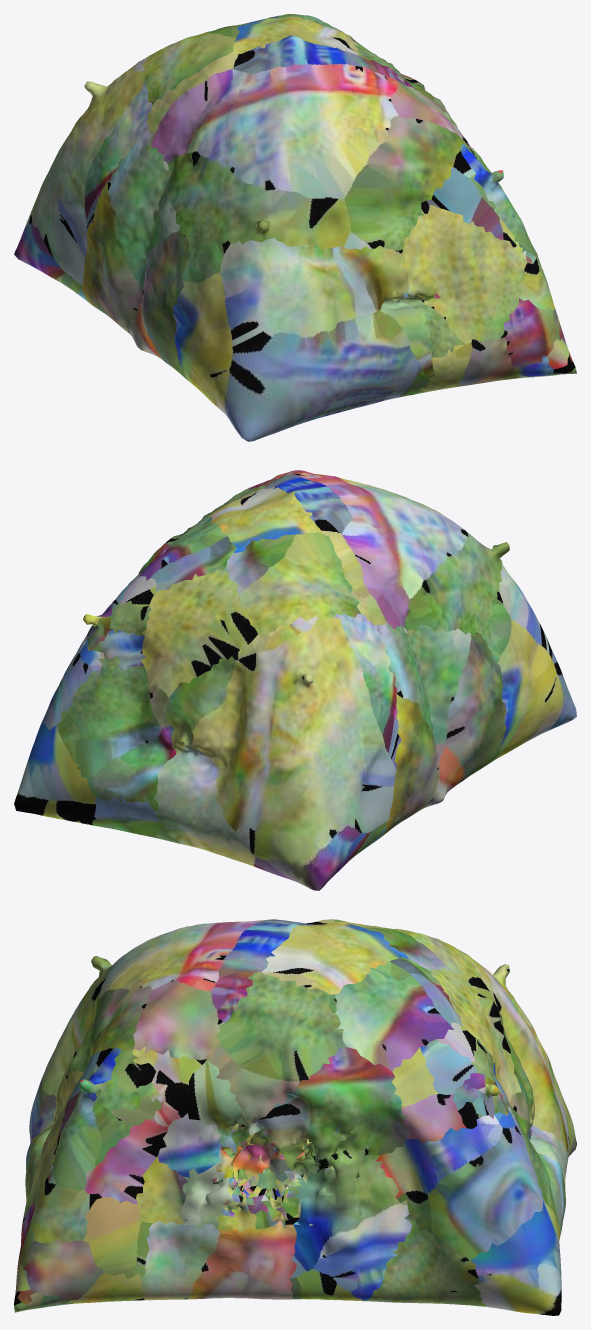
The model's file is Portable_Shelter_0822025128_preview.obj.
The picture shows the model from 3 angles, top to bottom: view 1: azimuth 30°, elevation 25°; view 2: azimuth 150°, elevation 25°; view 3: azimuth 270°, elevation 25°; orthographic projection. The views are drawn at different scales.
Visible parts, largest first — view 1: Mesh1; view 2: Mesh1; view 3: Mesh1.
Boxes of the visible parts, x1,y1,x2,y2 form: Mesh1: [14, 14, 576, 441]; Mesh1: [14, 470, 576, 890]; Mesh1: [14, 919, 576, 1315].
Size of the model in its own units: 0.9109 by 0.7624 by 1.2.
